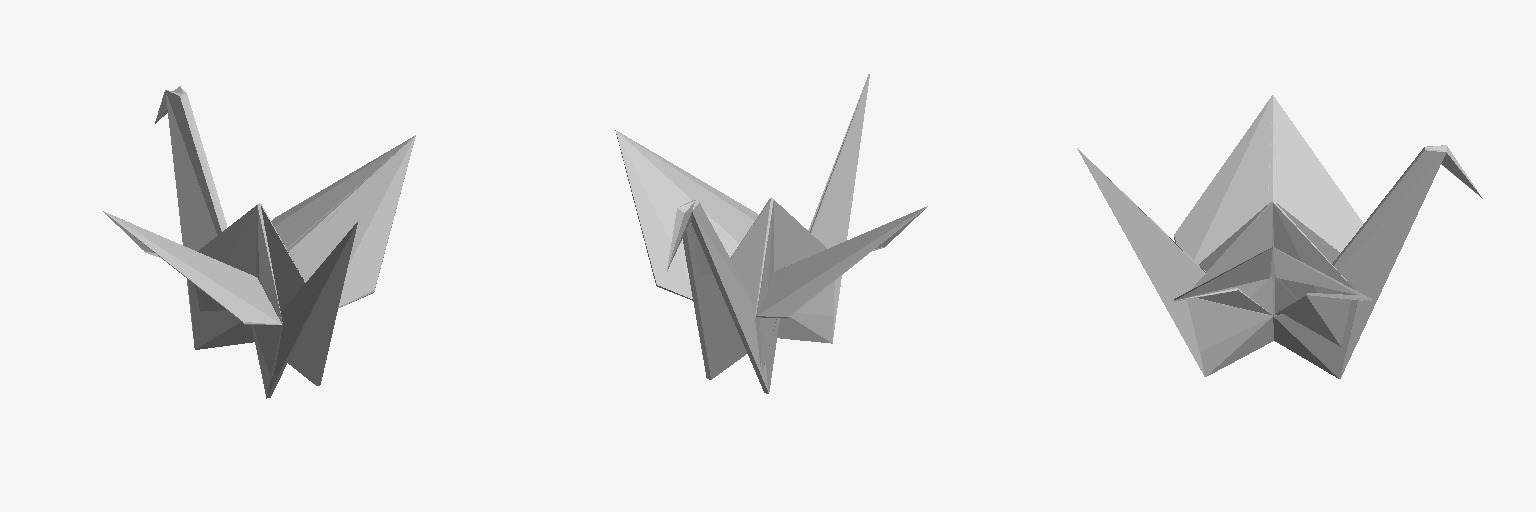
The model's file is origami-bird.obj.
The picture shows the model from 3 angles: view 1: azimuth 30°, elevation 25°; view 2: azimuth 150°, elevation 25°; view 3: azimuth 270°, elevation 25°; orthographic projection.
Visible parts, largest first — view 1: origami; view 2: origami; view 3: origami.
Boxes of the visible parts, <box> form: origami: <box>103,86,415,398</box>; origami: <box>615,74,927,393</box>; origami: <box>1077,95,1482,378</box>.
Bounding box in the file's own units: 1.96 × 1.3 × 2.21.